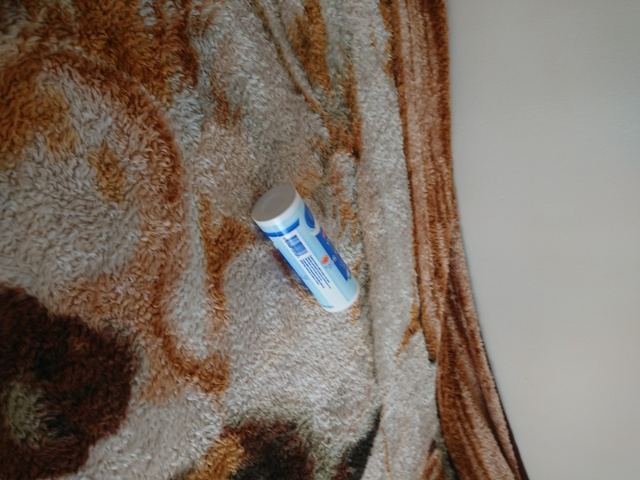Solana Pag Fine Sea Salt 250g: (248, 182, 362, 315)
